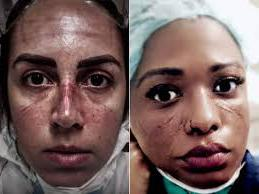mask_weared_incorrect: (9, 49, 120, 193), (144, 62, 245, 192)
